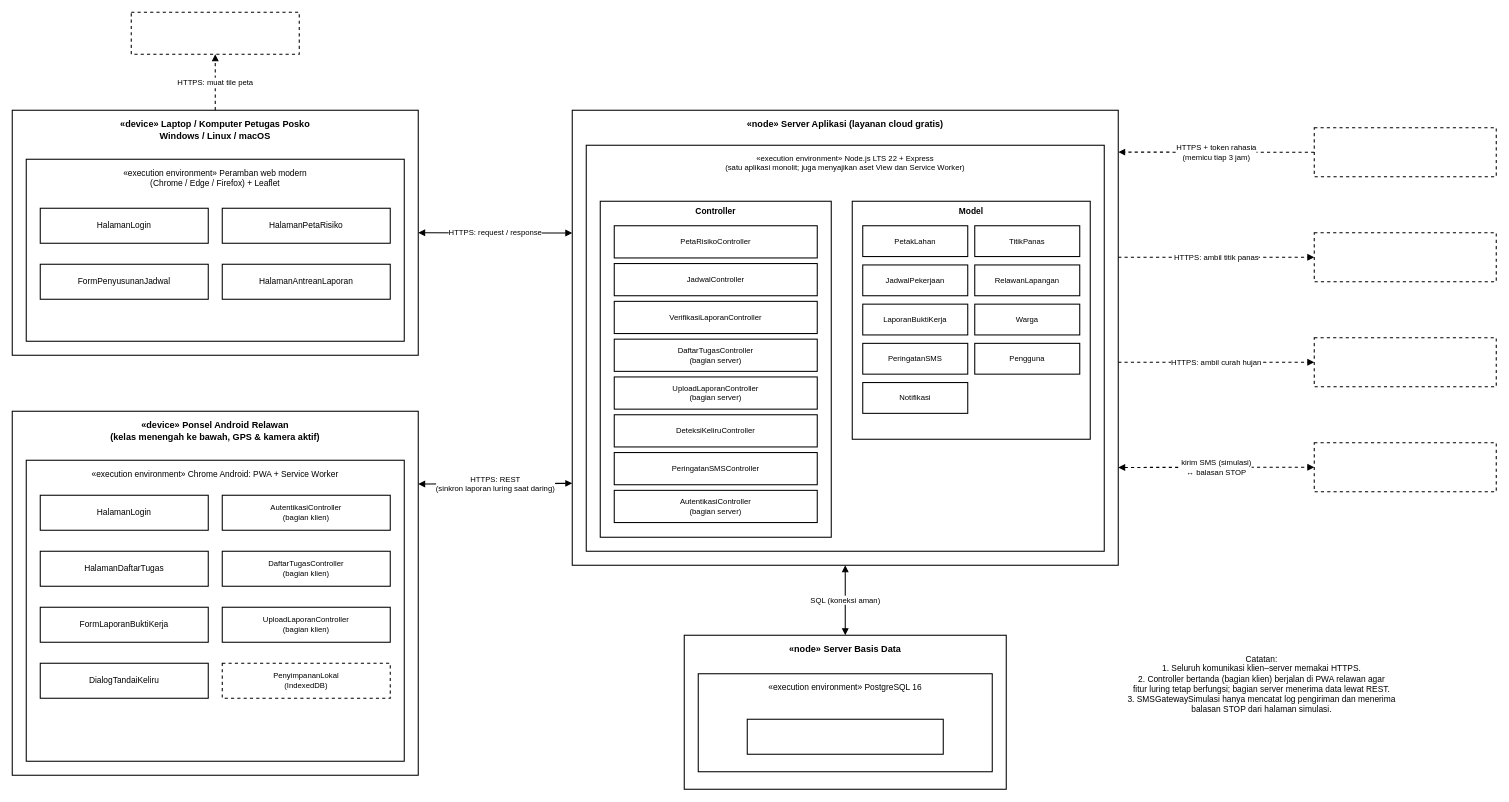
The diagram is 1509 pixels wide and 802 high, and some of its shapes have lost their labels. Each missing label, with the centre of its shape:
"CronEksternal" goes at point 1404,152.
"DatabaseServer" goes at point 844,736.
"NasaFirmsAPI" goes at point 1404,257.
"OpenMeteoAPI" goes at point 1404,362.
"OpenStreetMapTile" goes at point 214,32.
"SMSGatewaySimulasi" goes at point 1404,467.
